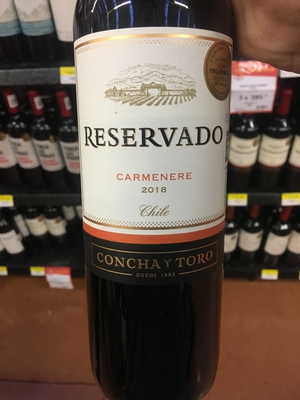reservado carmenere: (69, 1, 231, 400)
